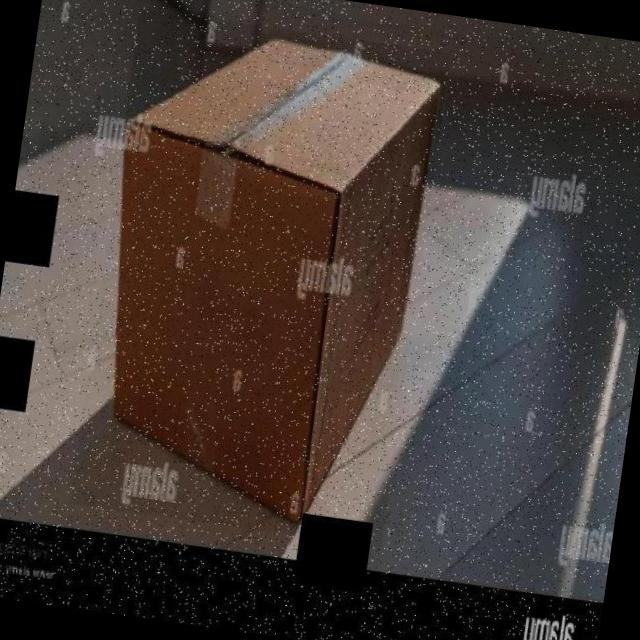box: (70, 9, 451, 548)
